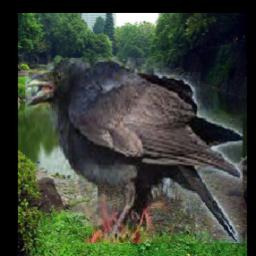Crow: (24, 58, 242, 243)
